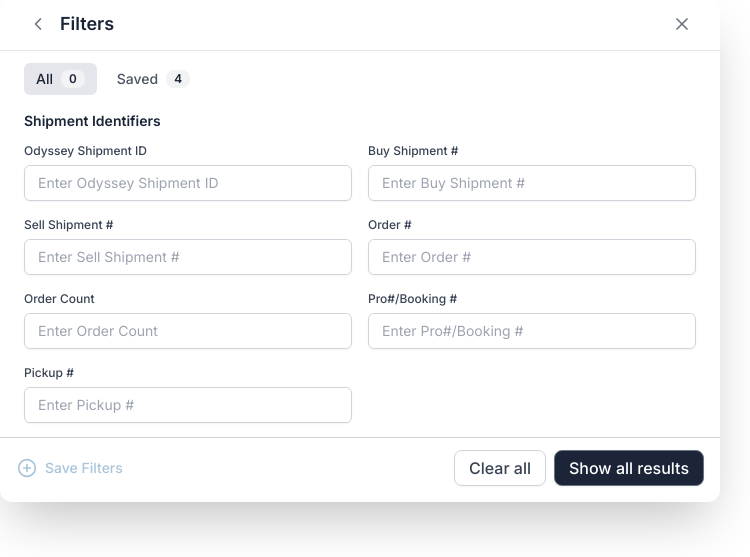
ShipmentsFiltersView — Saved tab, Custom group (S108 1d) › Cancel (panel footer) restores the normal list untouched, without deleting
This screenshot has width=750, height=557.
Click the button "Saved 4": click(153, 79) [105, 63, 202, 95]
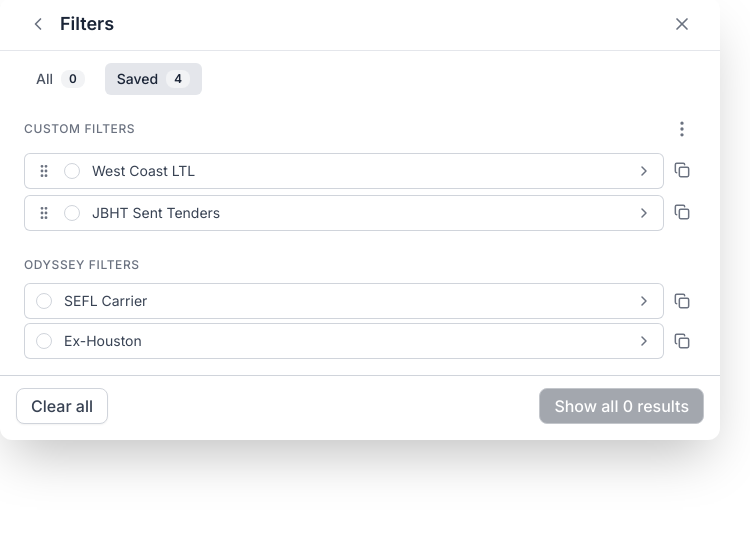
Click the button named "Preset actions": click(682, 129) [668, 115, 696, 143]
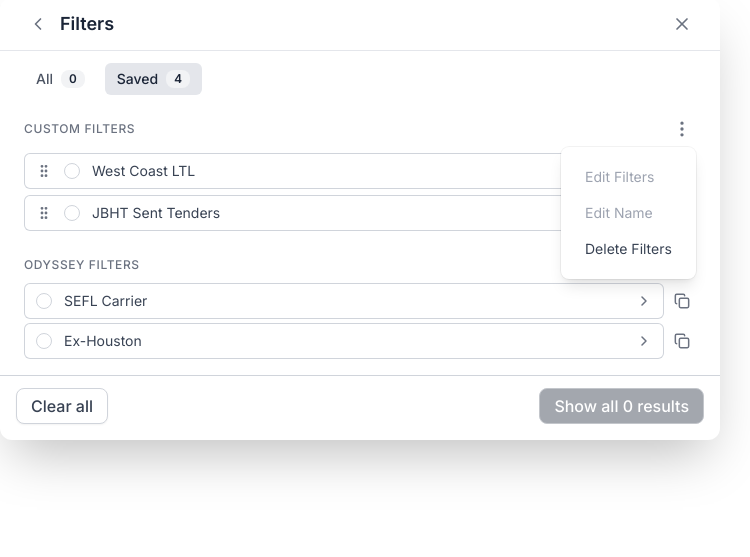
Click the menu item "Delete Filters": click(628, 248) [585, 240, 672, 257]
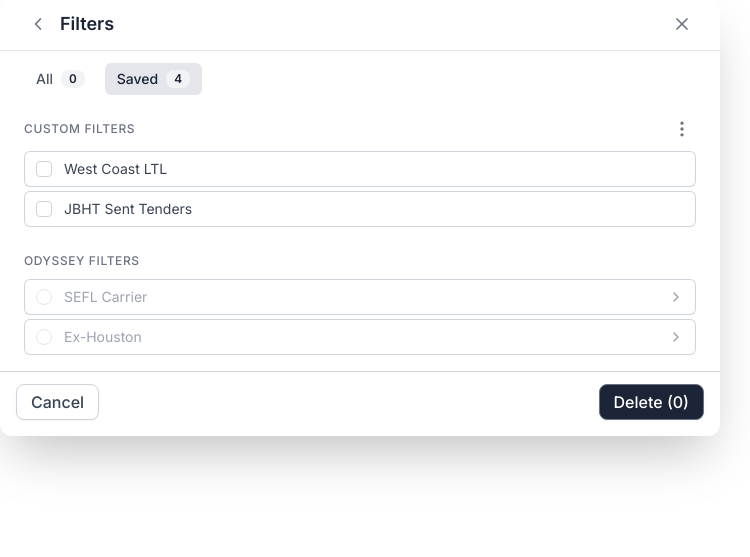
Expected: the number of elements with class "menu-row-checkbox" is 2, [24, 151, 696, 187]; [24, 191, 696, 227]
Click the button "Cancel": click(58, 402) [16, 384, 99, 420]
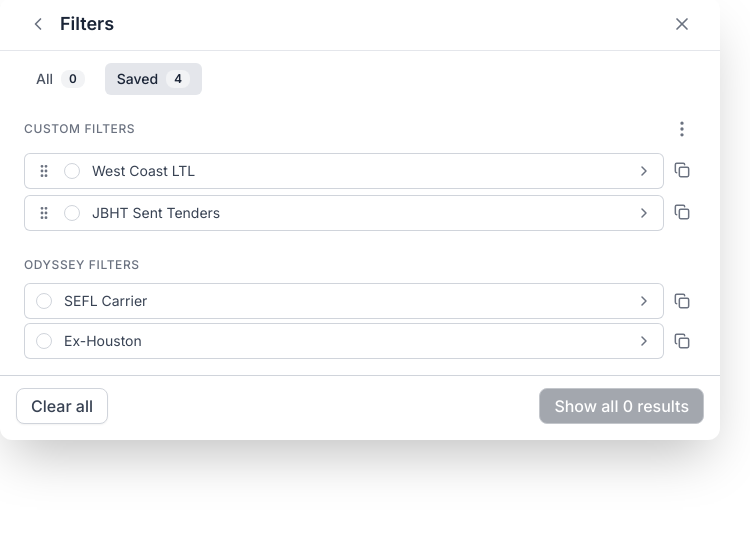
Expected: no elements with class "menu-row-checkbox" are shown
